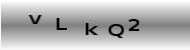2: (127, 18, 141, 32)
L: (55, 17, 70, 31)
Q: (107, 23, 126, 40)
k: (85, 23, 99, 36)
v: (27, 14, 43, 25)
